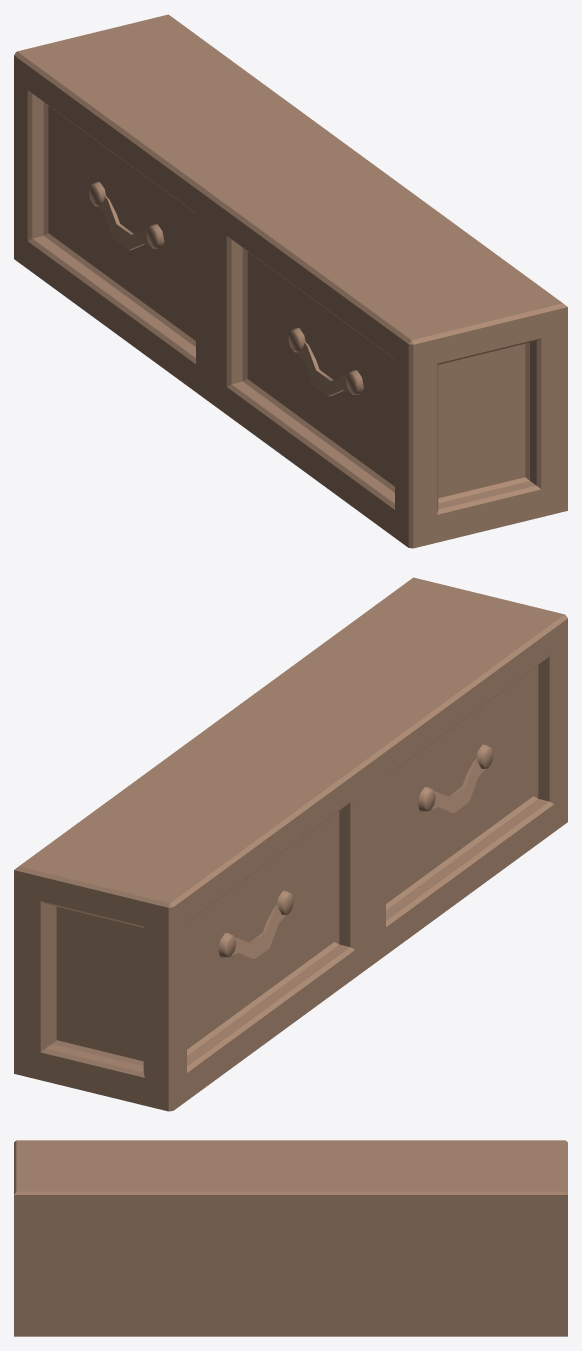
File: SM_BedDrawers.fbx
3 views of the same model, one above another, from view 1: azimuth 30°, elevation 25°; view 2: azimuth 150°, elevation 25°; view 3: azimuth 270°, elevation 25° (orthographic). The views are drawn at different scales.
Visible parts, largest first — view 1: SM_BedDrawers; view 2: SM_BedDrawers; view 3: SM_BedDrawers.
Part boxes in pixels (x1,y1,x2,y2): SM_BedDrawers: [14, 14, 567, 548]; SM_BedDrawers: [14, 577, 567, 1111]; SM_BedDrawers: [14, 1140, 567, 1336].
Bounding box in the file's own units: 46.15 × 57.9 × 202.
